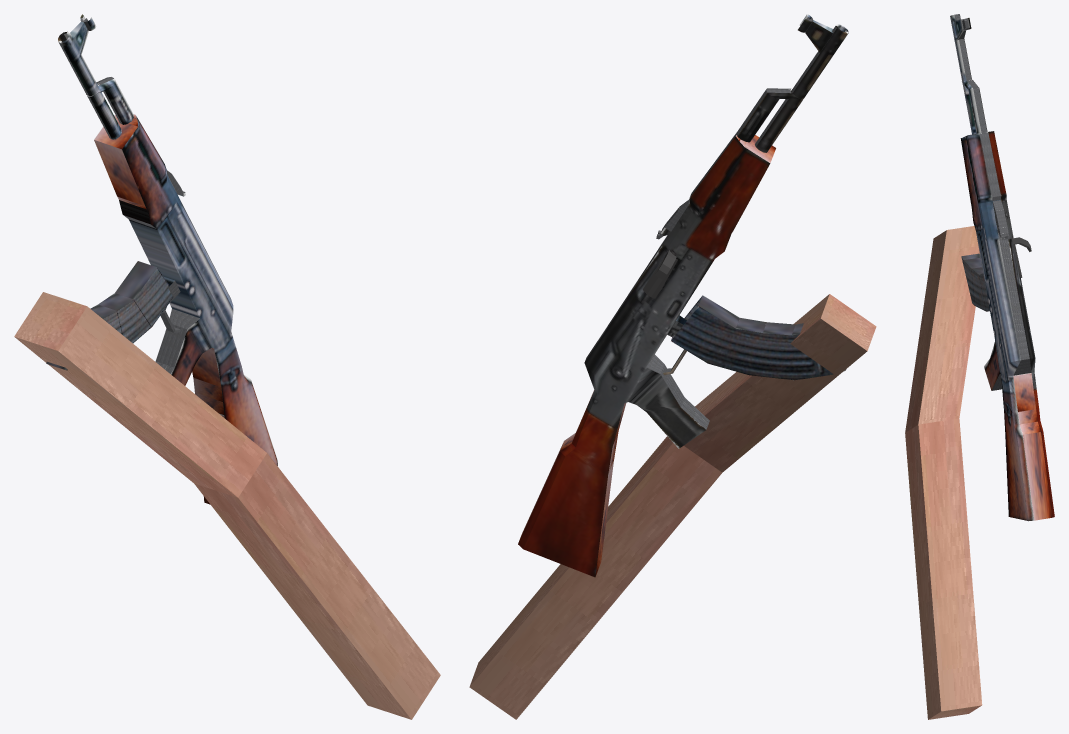
3 renders of one model, left to right at view 1: azimuth 30°, elevation 25°; view 2: azimuth 150°, elevation 25°; view 3: azimuth 270°, elevation 25°, orthographic. The views are drawn at different scales.
Parts seen in each view (by area): view 1: Cube.001_Cube.006, Cube.007_Cube.005, Cube.002_Cube.003; view 2: Cube.007_Cube.005, Cube.001_Cube.006, Cube.002_Cube.003, Plane; view 3: Cube.001_Cube.006, Cube.007_Cube.005, Cube.002_Cube.003.
Boxes of the visible parts, x1,y1,x2,y2 form: Cube.001_Cube.006: (14, 292, 440, 719); Cube.007_Cube.005: (58, 14, 277, 504); Cube.002_Cube.003: (46, 261, 173, 370); Cube.007_Cube.005: (518, 14, 848, 577); Cube.001_Cube.006: (469, 294, 876, 719); Cube.002_Cube.003: (671, 295, 846, 380); Plane: (643, 250, 677, 298); Cube.001_Cube.006: (905, 226, 982, 719); Cube.007_Cube.005: (950, 14, 1054, 521); Cube.002_Cube.003: (961, 253, 989, 311).
Size of the model in its own units: 6.72 by 12.05 by 2.78.
